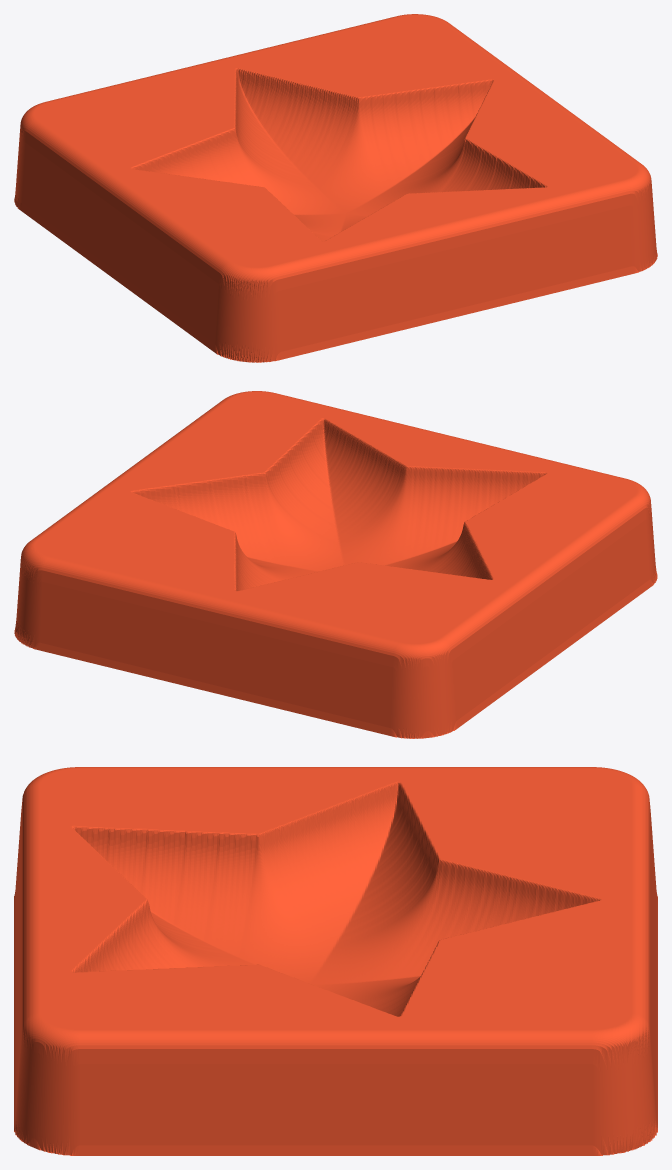
Rendered from mold.glb.
3 views of the same model, one above another, from view 1: azimuth 30°, elevation 25°; view 2: azimuth 150°, elevation 25°; view 3: azimuth 270°, elevation 25° (orthographic). The views are drawn at different scales.
Parts seen in each view (by area): view 1: geometry_0; view 2: geometry_0; view 3: geometry_0.
Boxes of the visible parts, bbox=[...] form: geometry_0: bbox=[14, 14, 657, 362]; geometry_0: bbox=[14, 391, 657, 738]; geometry_0: bbox=[14, 767, 657, 1155].
Bounding box in the file's own units: 0.0924 × 0.0175 × 0.0888.
